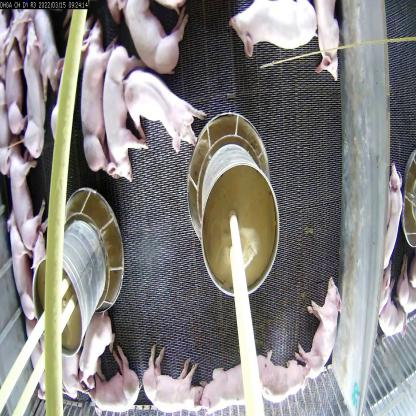Pig: (93, 30, 137, 184), (125, 67, 198, 155), (13, 27, 58, 165), (229, 1, 316, 67), (118, 0, 184, 70), (79, 20, 108, 167), (3, 142, 44, 244), (306, 1, 354, 88), (143, 349, 206, 415), (85, 353, 142, 416), (205, 353, 262, 416), (75, 301, 116, 388), (301, 280, 340, 370), (382, 163, 413, 276), (0, 216, 31, 325), (254, 352, 312, 409), (38, 5, 66, 77)
